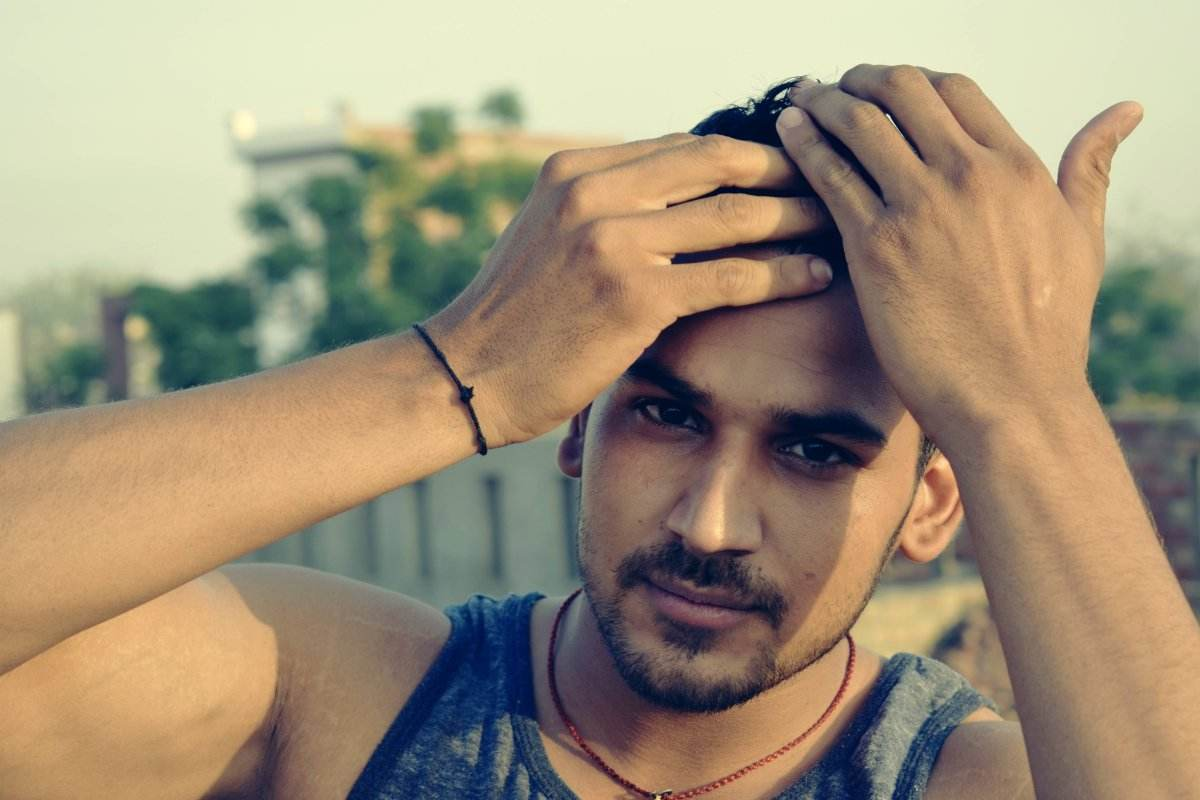person: (418, 60, 976, 800)
